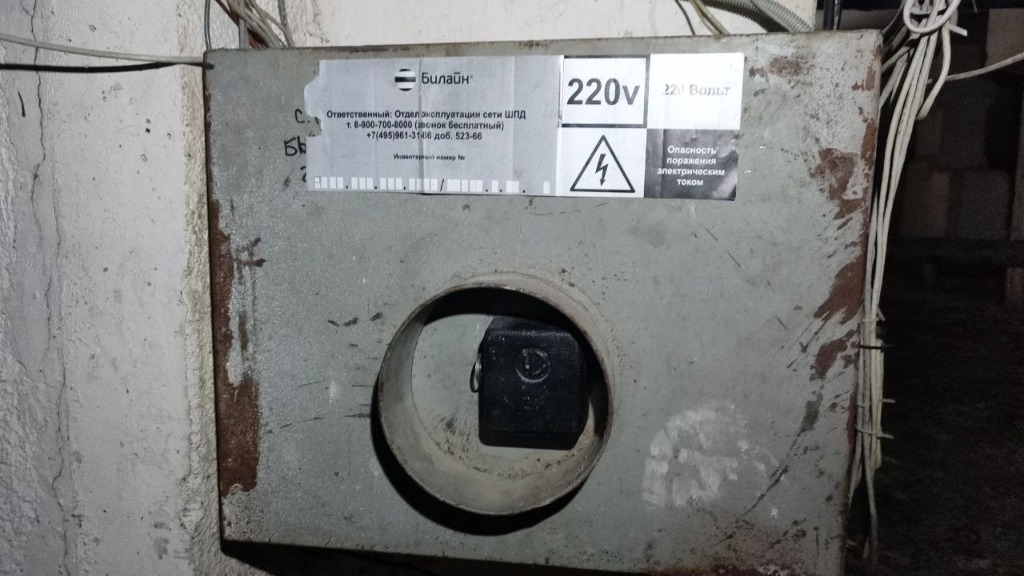shta-3: (201, 30, 884, 573)
